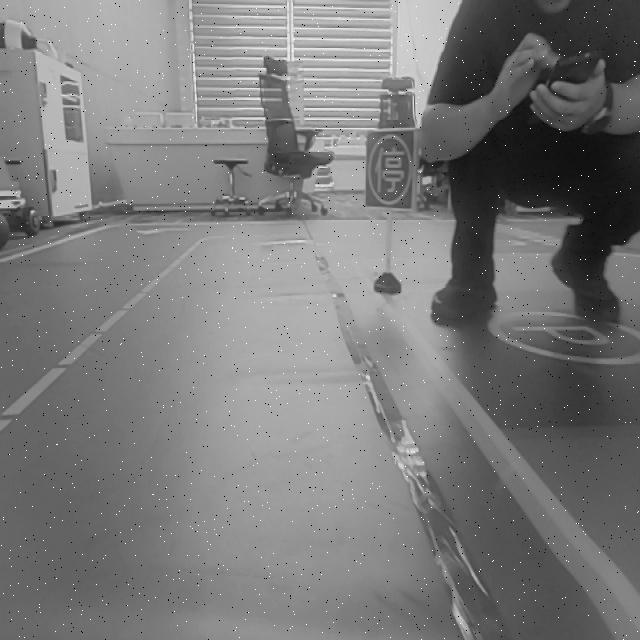left_lane: (354, 260, 640, 640), (0, 238, 211, 435)
